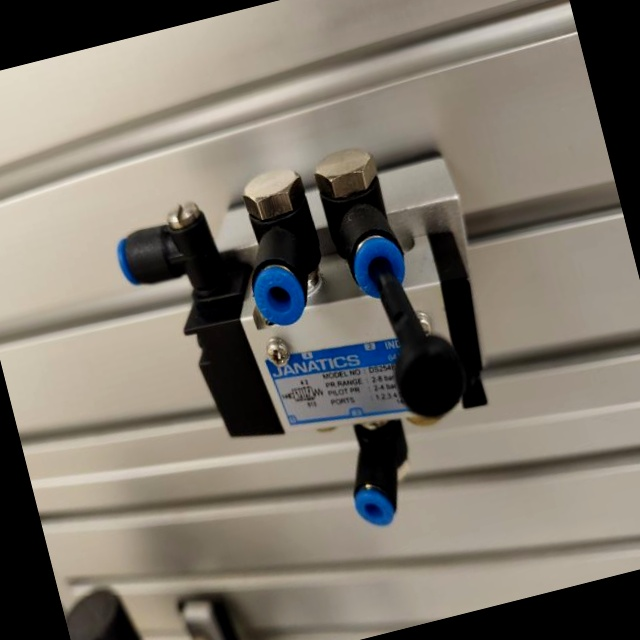5by2 DCV: (98, 112, 554, 582)
